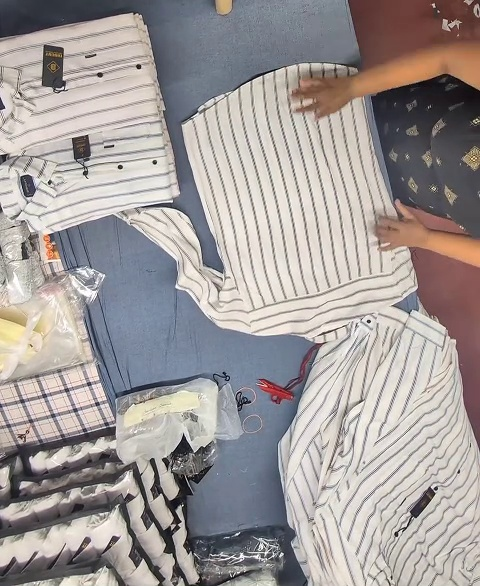SHIRT: (12, 130, 479, 475)
